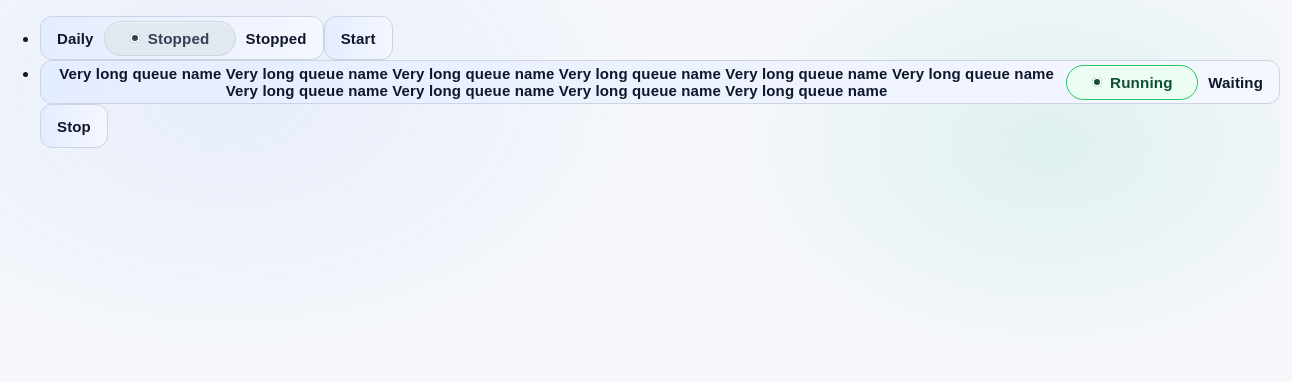
it: PhoneQueuesView detail › opens the detail with entry switches and the hints
The image size is (1292, 382).
Click the button with aria-label "Open Daily" at (182, 38), box [40,16,324,60]
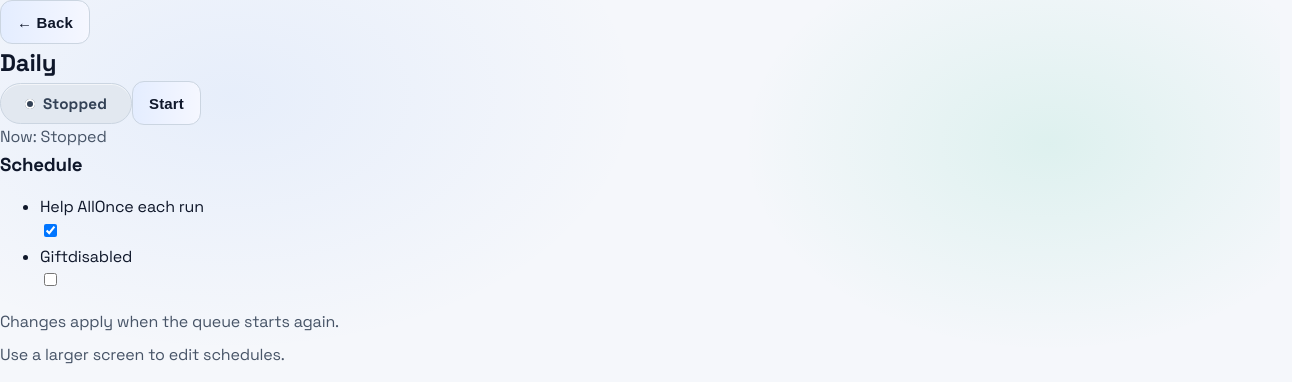
Expected: the element with test id "phone-queue-detail" is shown, [0,0,339,365]
Expected: the switch named "Help All" is checked, [44,224,57,237]
Expected: the switch named "Gift" is not checked, [44,273,57,286]
